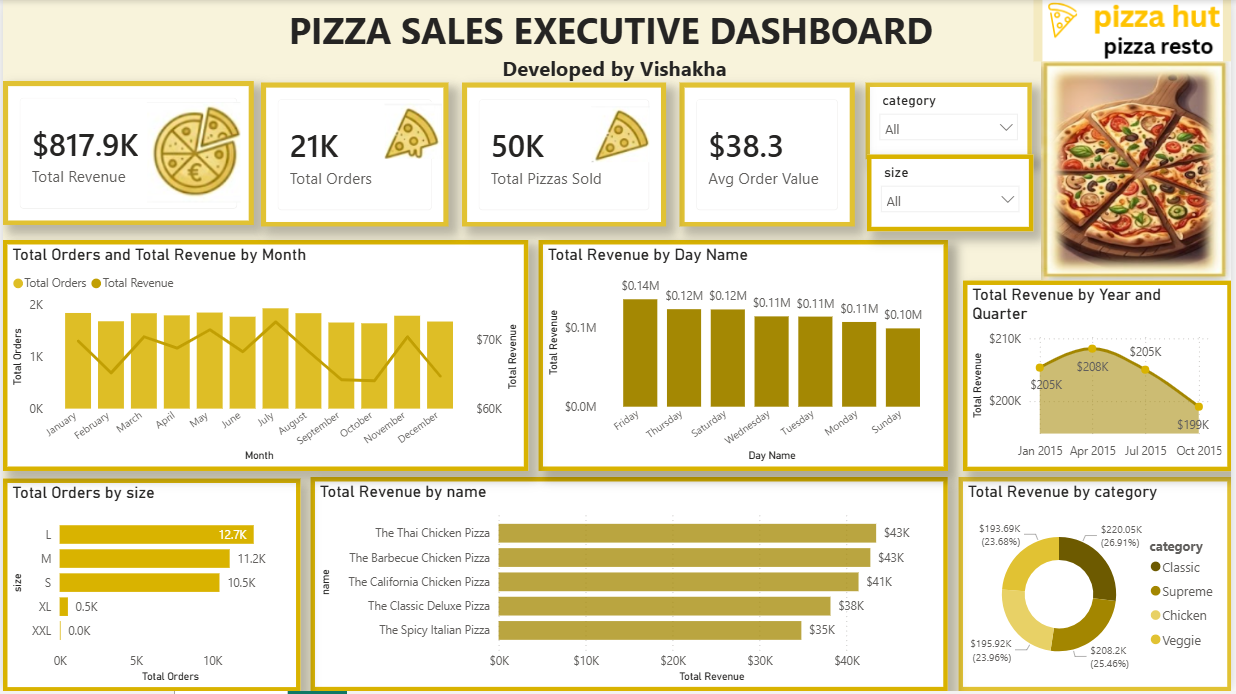

The dashboard page shown, as its layout file describes it:
{"tool":"powerbi","page":{"name":"Page 1","canvas":[1280,720],"ordinal":0},"visuals":[{"type":"donutChart","fields":{"Y":["order_details.Total Revenue"],"Category":["pizza_types.category"]},"box":[995.6,497,284.5,223.5],"z":0},{"type":"cardVisual","fields":{"Data":["order_details.Total Revenue"]},"box":[0,84.4,261,150],"z":1000},{"type":"cardVisual","fields":{"Data":["order_details.Total Pizzas Sold"]},"box":[478.3,86,212.6,150],"z":2000,"group":"g2"},{"type":"clusteredBarChart","fields":{"Category":["pizza_types.name"],"Y":["order_details.Total Revenue"]},"box":[320.4,497,664.3,223.5],"z":2000},{"type":"slicer","fields":{"Values":["pizza_types.category"]},"box":[898.7,86,173.5,79.7],"z":3000},{"type":"cardVisual","fields":{"Data":["order_details.Total Orders"]},"box":[268.8,86,195.4,150],"z":4000,"group":"g1"},{"type":"clusteredColumnChart","fields":{"Category":["orders.Day Name"],"Y":["order_details.Total Revenue"]},"box":[558,250.1,426.7,240.7],"z":4000},{"type":"cardVisual","fields":{"Data":["order_details.Avg Order Value"]},"box":[704.9,86,182.9,150],"z":5000},{"type":"lineChart","fields":{"Y":["order_details.Total Revenue"],"Category":["orders.date.Variation.Date Hierarchy.Year","orders.date.Variation.Date Hierarchy.Quarter"]},"box":[1000.3,292.3,279.8,198.5],"z":6000},{"type":"clusteredBarChart","fields":{"Category":["pizzas.size"],"Y":["order_details.Total Orders"]},"box":[0,498,310,222],"z":7000},{"type":"lineClusteredColumnComboChart","fields":{"Y":["order_details.Total Orders"],"Y2":["order_details.Total Revenue"],"Category":["orders.date.Variation.Date Hierarchy.Month"]},"box":[0,250.1,547,240.7],"z":8000},{"type":"slicer","fields":{"Values":["pizzas.size"]},"box":[900.3,161,173.5,79.7],"z":9000},{"type":"textbox","box":[137.5,0,1001.9,84.4],"z":10000},{"type":"textbox","box":[490.8,50,298.5,78.1],"z":11000},{"type":"image","box":[1073.8,0,206.3,64.1],"z":12000},{"type":"group","id":"g1","title":"Group 2","box":[268.8,86,195.4,150],"z":13000},{"type":"group","id":"g2","title":"Group 3","box":[478.3,86,212.6,150],"z":14000},{"type":"image","box":[611,111.1,65,57.8],"z":14001,"group":"g2"},{"type":"image","box":[136,106.3,125,104.7],"z":15000},{"type":"image","box":[1081.6,64.1,198.5,228.2],"z":16000},{"type":"image","box":[390.7,106.3,73.5,59.4],"z":17000}]}

Visuals, with their boxes in screenshot pixels (x1, y1, x2, y2), scaled from the page's 1280x720 canvas onto the 1236x694 screenshot:
donutChart - order_details.Total Revenue x pizza_types.category: bbox=[961, 479, 1235, 693]
cardVisual - order_details.Total Revenue: bbox=[0, 81, 252, 226]
cardVisual - order_details.Total Pizzas Sold: bbox=[462, 83, 667, 227]
clusteredBarChart - pizza_types.name x order_details.Total Revenue: bbox=[309, 479, 951, 693]
slicer - pizza_types.category: bbox=[868, 83, 1035, 160]
cardVisual - order_details.Total Orders: bbox=[260, 83, 448, 227]
clusteredColumnChart - orders.Day Name x order_details.Total Revenue: bbox=[539, 241, 951, 473]
cardVisual - order_details.Avg Order Value: bbox=[681, 83, 857, 227]
lineChart - order_details.Total Revenue x orders.date.Variation.Date Hierarchy.Year: bbox=[966, 282, 1235, 473]
clusteredBarChart - pizzas.size x order_details.Total Orders: bbox=[0, 480, 299, 693]
lineClusteredColumnComboChart - order_details.Total Orders x order_details.Total Revenue: bbox=[0, 241, 528, 473]
slicer - pizzas.size: bbox=[869, 155, 1037, 232]
textbox: bbox=[133, 0, 1100, 81]
textbox: bbox=[474, 48, 762, 123]
image: bbox=[1037, 0, 1235, 62]
"Group 2" group: bbox=[260, 83, 448, 227]
"Group 3" group: bbox=[462, 83, 667, 227]
image: bbox=[590, 107, 653, 163]
image: bbox=[131, 102, 252, 203]
image: bbox=[1044, 62, 1235, 282]
image: bbox=[377, 102, 448, 160]
